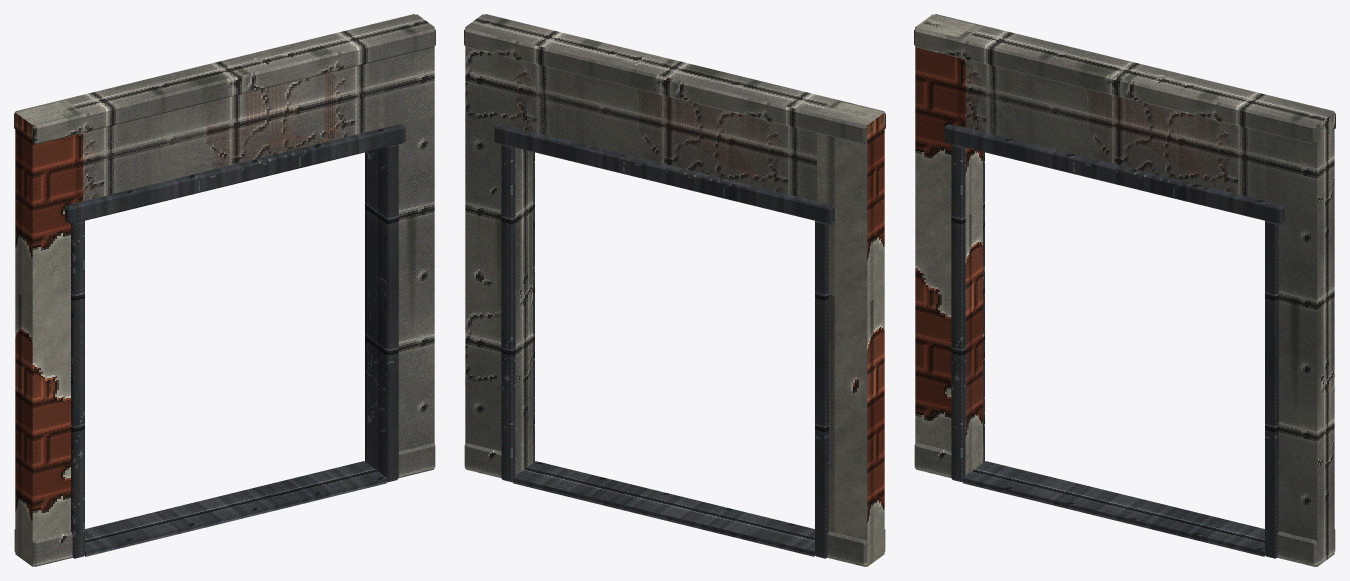
The model's file is wall_plaster_door.glb.
3 views of the same model, side by side, from view 1: azimuth 30°, elevation 25°; view 2: azimuth 150°, elevation 25°; view 3: azimuth 330°, elevation 25° (orthographic).
Visible parts, largest first — view 1: wall_plaster_door_mesh, wall_plaster_door_col-colonly.002, wall_plaster_door_col-colonly.001; view 2: wall_plaster_door_mesh, wall_plaster_door_col-colonly.002, wall_plaster_door_col-colonly.001; view 3: wall_plaster_door_mesh, wall_plaster_door_col-colonly.002, wall_plaster_door_col-colonly.001.
Part boxes in pixels (box(x1,y1,x2,y2)): wall_plaster_door_mesh: box(14, 14, 435, 566); wall_plaster_door_col-colonly.002: box(66, 26, 384, 200); wall_plaster_door_col-colonly.001: box(367, 14, 434, 464); wall_plaster_door_mesh: box(464, 14, 885, 566); wall_plaster_door_col-colonly.002: box(515, 26, 833, 200); wall_plaster_door_col-colonly.001: box(465, 14, 532, 475); wall_plaster_door_mesh: box(914, 14, 1335, 566); wall_plaster_door_col-colonly.002: box(965, 26, 1283, 200); wall_plaster_door_col-colonly.001: box(1267, 100, 1334, 566).
Size of what is drawn, in the model's own units: 4 by 4.2 by 0.44.
3 materials, 3 textured.
